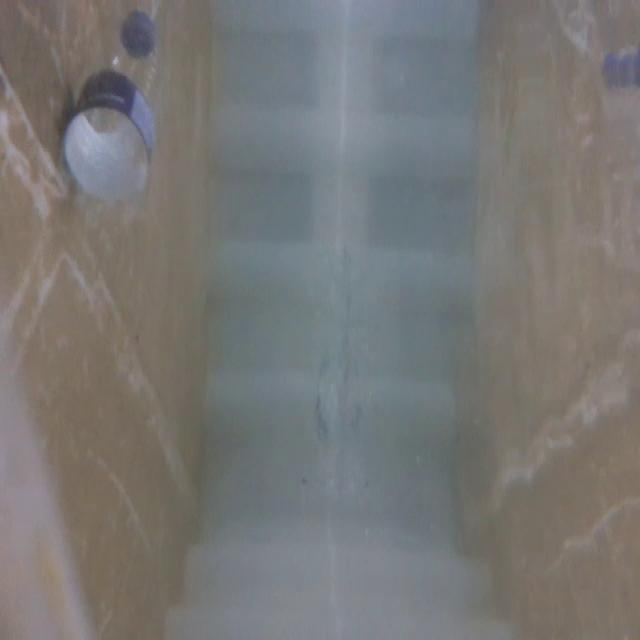plastic bottle: (31, 9, 190, 242)
